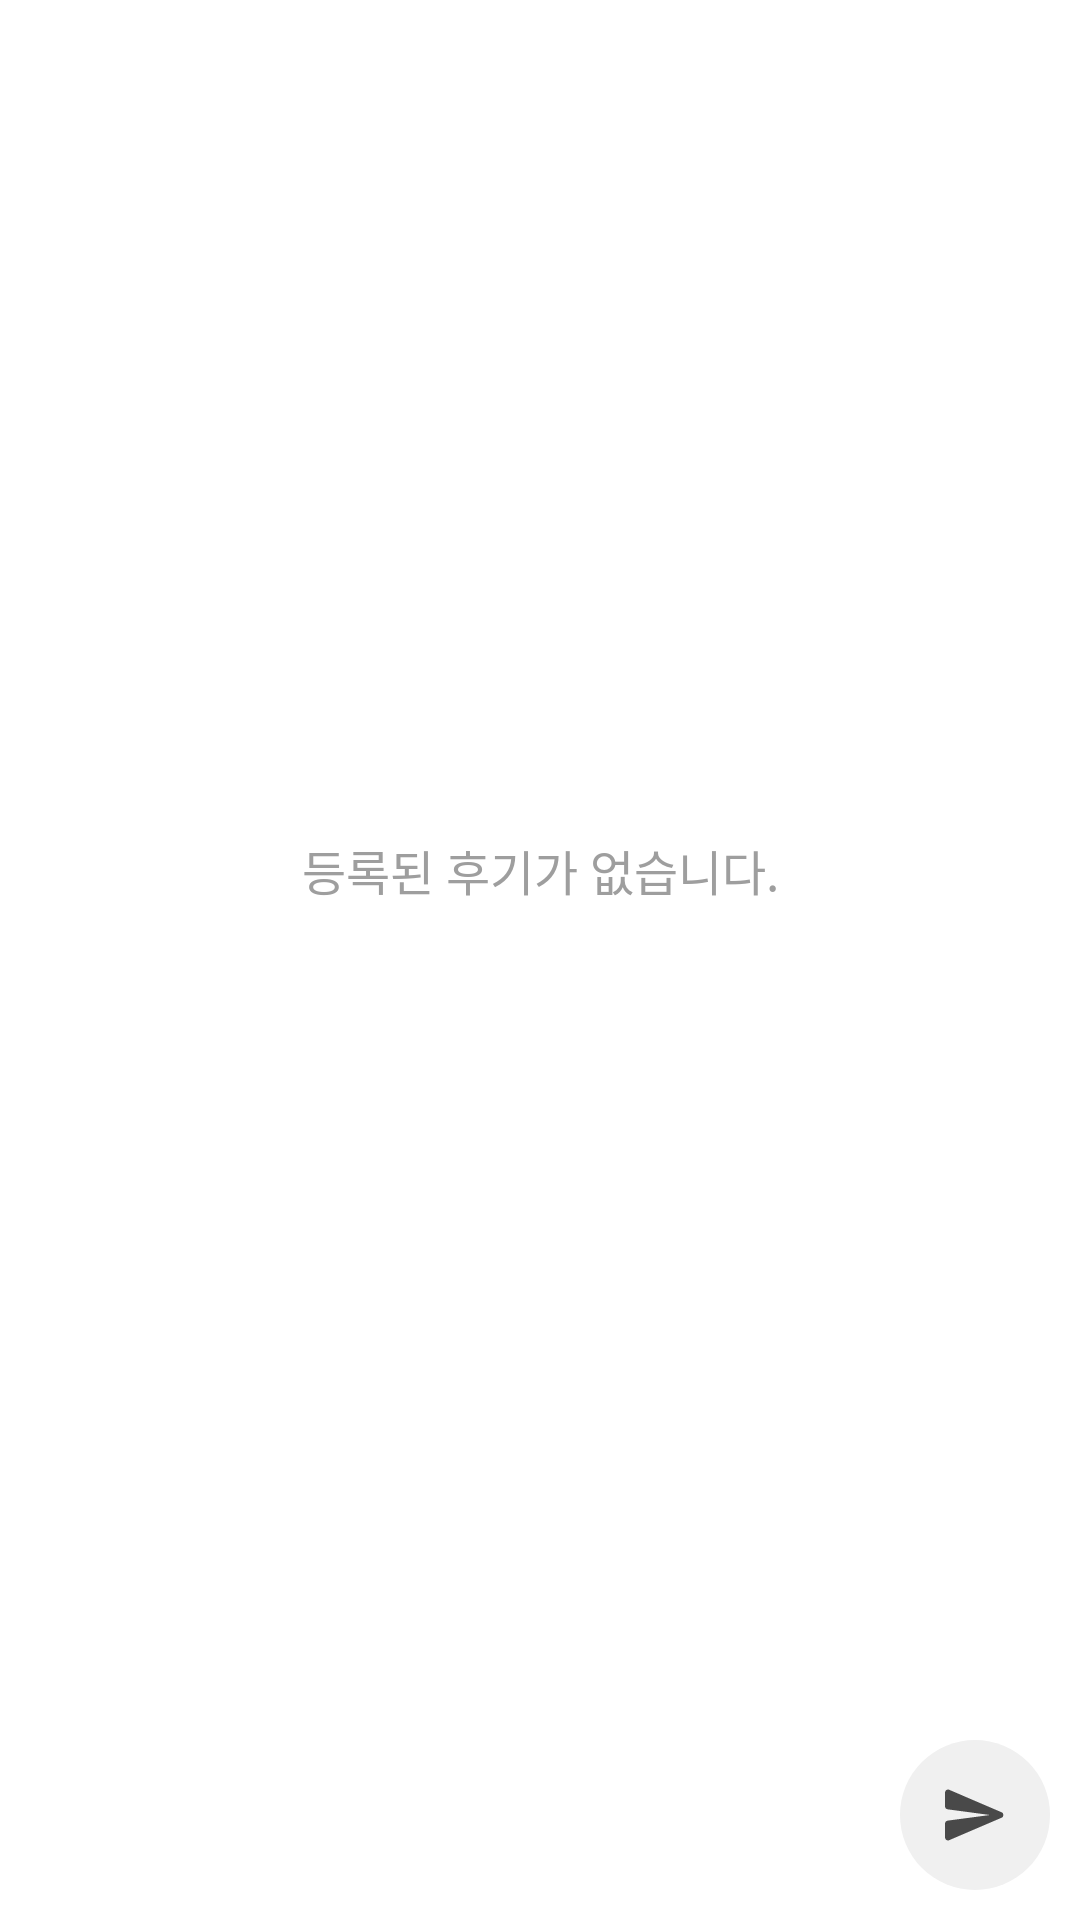

Where icons sit on this 1080×1920 app screen, as bbox=(x1, y1, x2, y2):
send: bbox=(900, 1740, 1050, 1890)
